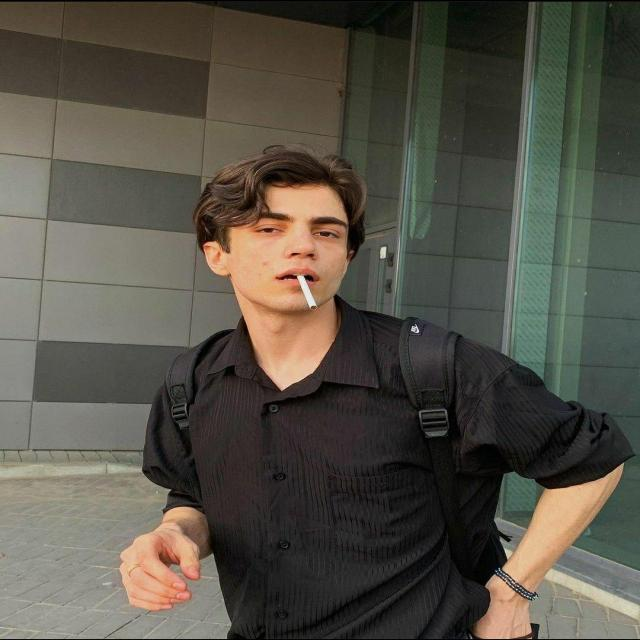cigarette: (290, 266, 324, 333)
